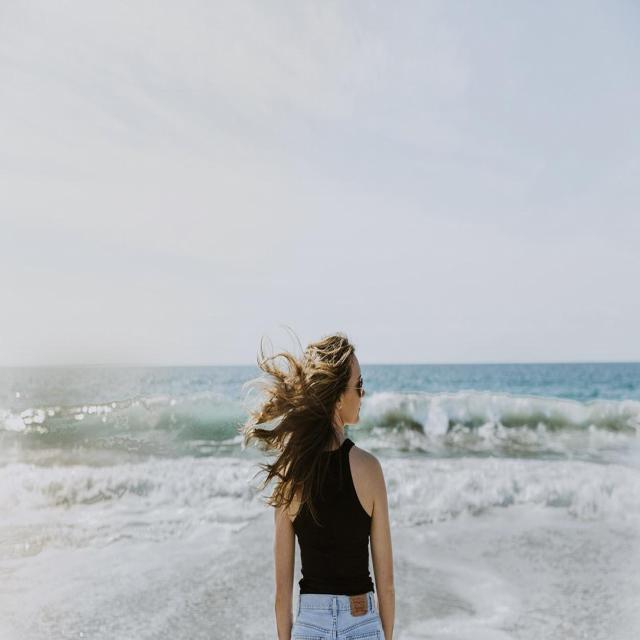person: (219, 284, 428, 639)
